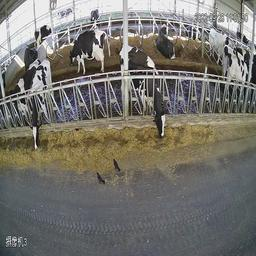cow: (118, 44, 166, 140), (29, 59, 54, 151), (68, 34, 102, 77), (154, 22, 176, 62), (207, 25, 228, 64), (183, 18, 201, 43), (32, 27, 54, 44)
